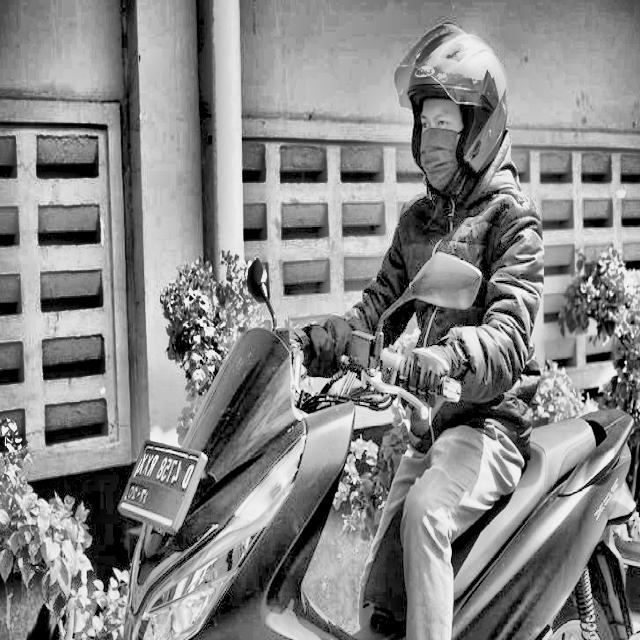Helmet: (395, 10, 510, 222)
